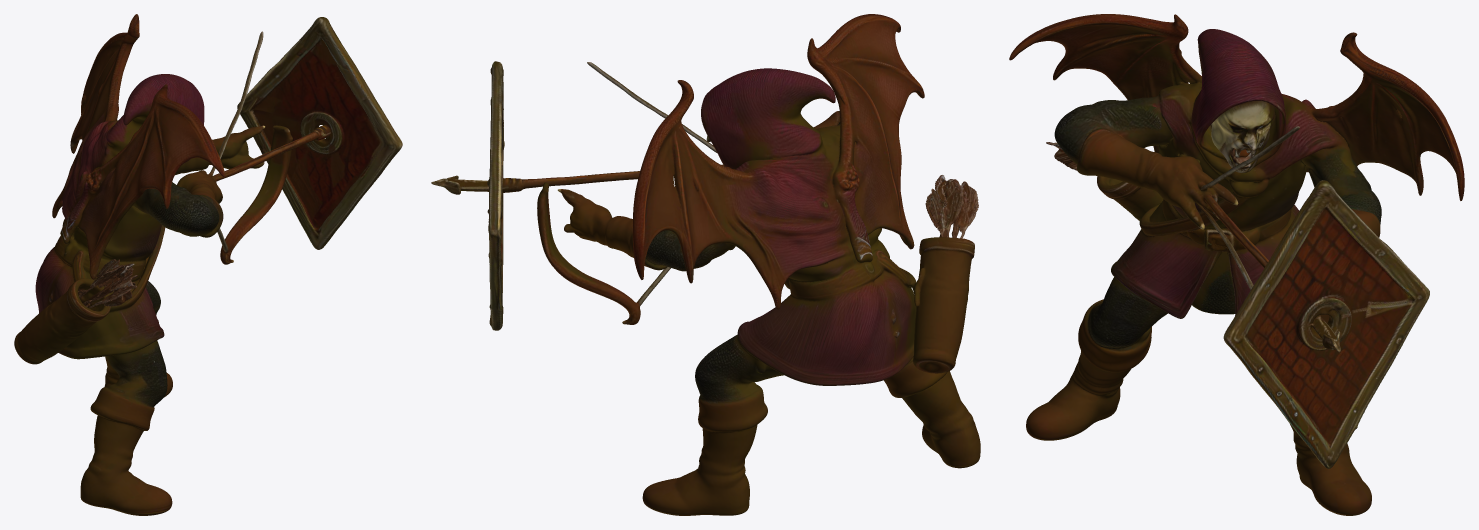
The picture shows the model from 3 angles, left to right: view 1: azimuth 30°, elevation 25°; view 2: azimuth 150°, elevation 25°; view 3: azimuth 270°, elevation 25°; orthographic projection. The views are drawn at different scales.
Parts seen in each view (by area): view 1: tripo_node_8088afda-ef59-41be-ac04-ad1d82e435d5; view 2: tripo_node_8088afda-ef59-41be-ac04-ad1d82e435d5; view 3: tripo_node_8088afda-ef59-41be-ac04-ad1d82e435d5.
Boxes of the visible parts, left/top/right/bottom form: tripo_node_8088afda-ef59-41be-ac04-ad1d82e435d5: left=14, top=14, right=402, bottom=515; tripo_node_8088afda-ef59-41be-ac04-ad1d82e435d5: left=431, top=14, right=980, bottom=515; tripo_node_8088afda-ef59-41be-ac04-ad1d82e435d5: left=1009, top=14, right=1464, bottom=515.
Size of the model in its own units: 1 by 0.8985 by 0.7901.
Materials: 1 (1 with a texture image).
